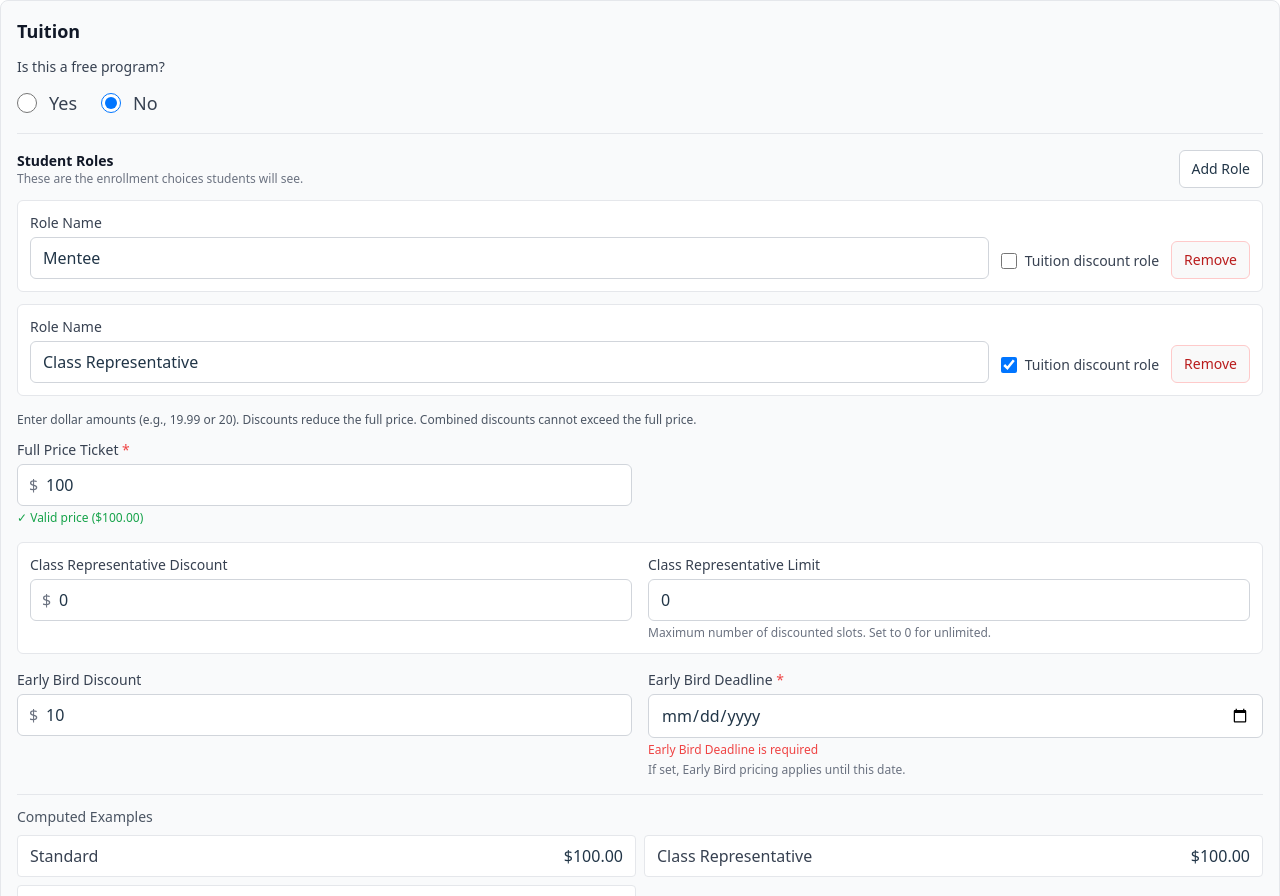
EditProgram PricingSection student discount roles › allows zero tuition discount roles
Check: the number field labelled "Class Representative Discount" is shown, box 30,579 -> 632,621
Click the 2nd checkbox labelled "Tuition discount role" at (1009, 365), box 1001,357 -> 1017,373
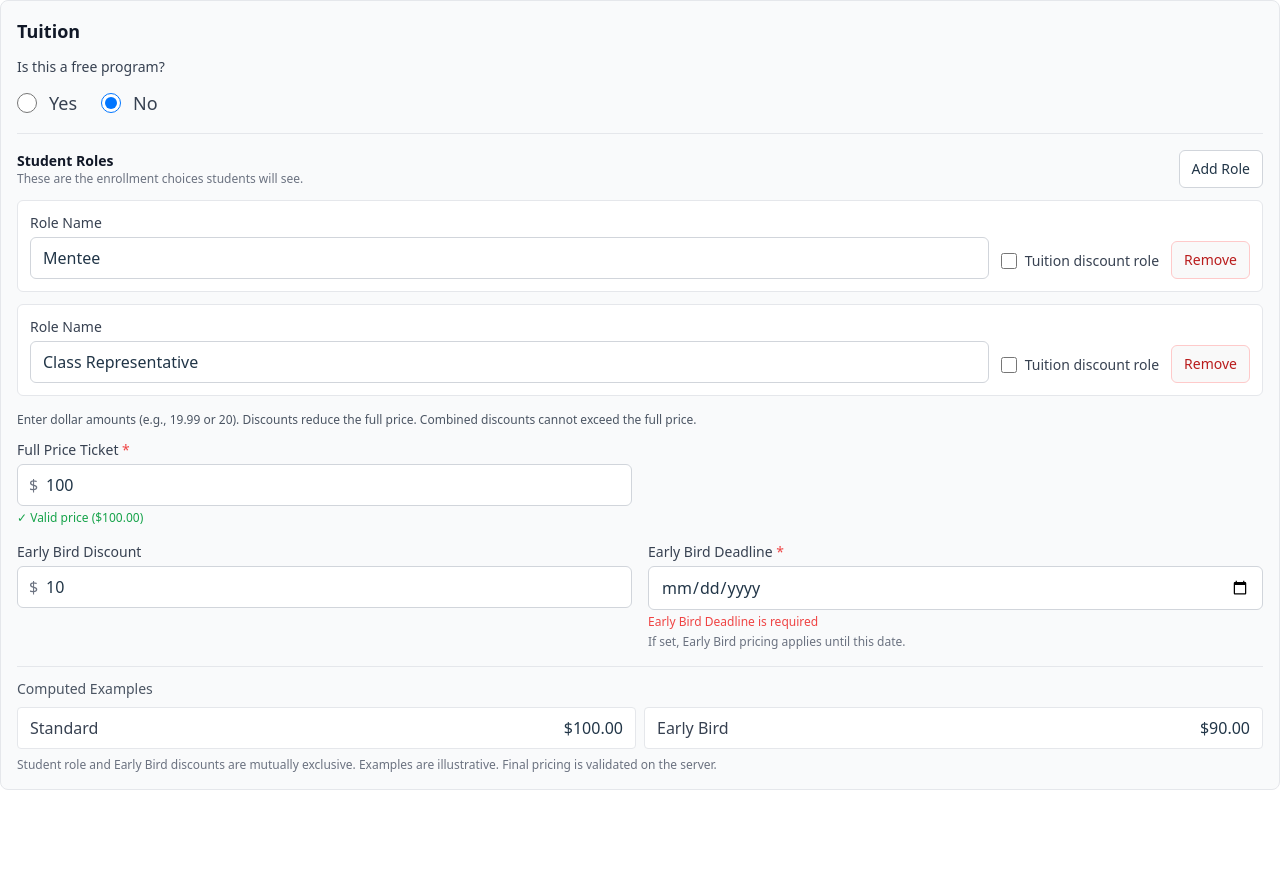
Check: the text "Standard" is shown, box 30,716 -> 98,740
Check: the 2nd checkbox labelled "Tuition discount role" is not checked, box 1001,357 -> 1017,373
Check: the label labelled "Class Representative Discount" is gone
